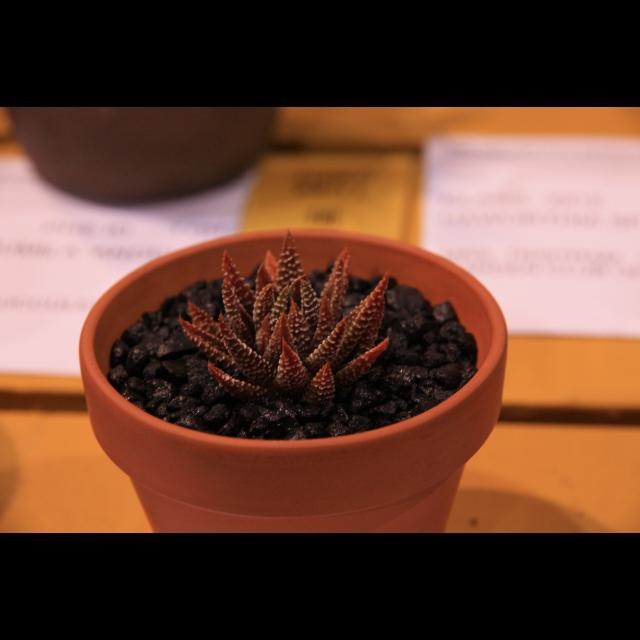Flower: (170, 242, 414, 422)
